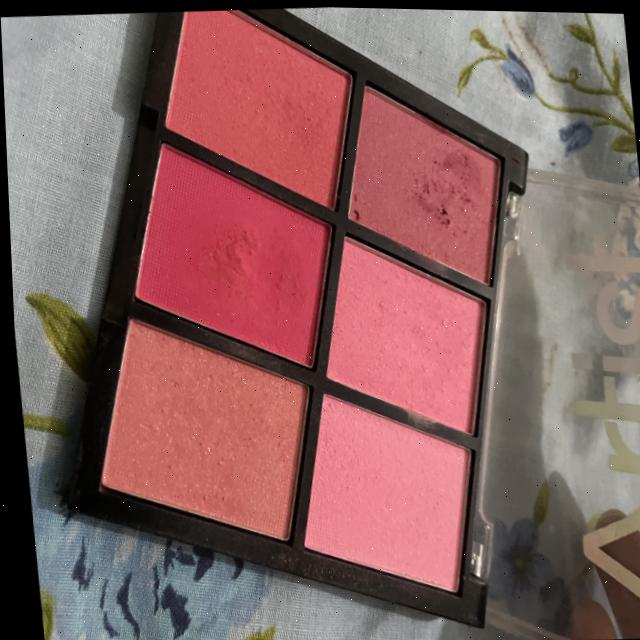blush: (84, 303, 323, 560), (117, 127, 341, 390), (153, 3, 345, 232), (317, 213, 492, 460), (284, 380, 470, 600), (337, 64, 500, 310)
